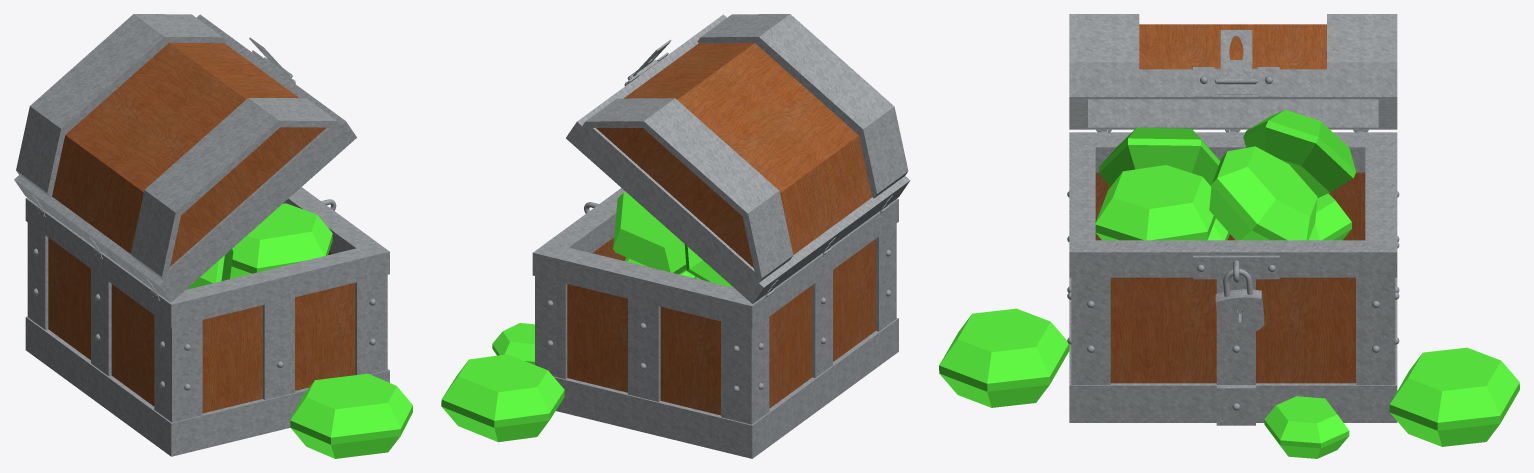
The model's file is clash_royall_gem_box.glb.
3 views of the same model, side by side, from view 1: azimuth 30°, elevation 25°; view 2: azimuth 150°, elevation 25°; view 3: azimuth 270°, elevation 25° (orthographic). The views are drawn at different scales.
Parts seen in each view (by area): view 1: Object_5, Object_8, Object_9; view 2: Object_5, Object_8, Object_9; view 3: Object_5, Object_9, Object_8, Object_4.
Boxes of the visible parts, <box> form: Object_5: <box>14,14,389,456</box>; Object_8: <box>48,43,355,413</box>; Object_9: <box>186,203,412,458</box>; Object_5: <box>532,14,910,458</box>; Object_8: <box>567,43,875,415</box>; Object_9: <box>441,191,733,442</box>; Object_5: <box>1069,14,1397,425</box>; Object_9: <box>939,109,1519,458</box>; Object_8: <box>1095,24,1365,383</box>; Object_4: <box>1067,129,1379,335</box>.
Size of the model in its own units: 1.4 by 1.41 by 2.05.
Materials: 4 (3 with a texture image).
